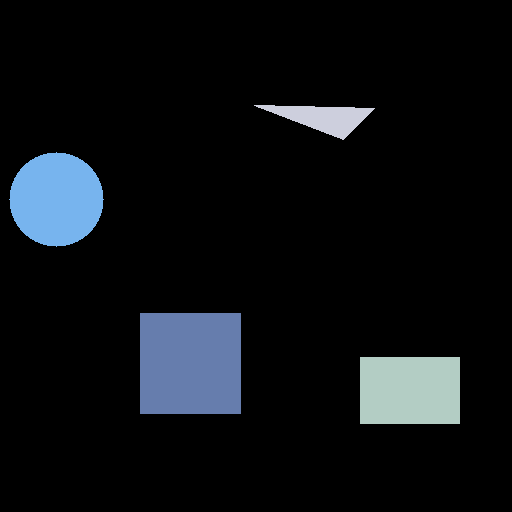circle: (9, 152, 103, 246)
rectangle: (360, 357, 459, 423)
square: (140, 313, 240, 413)
triangle: (254, 105, 374, 139)
